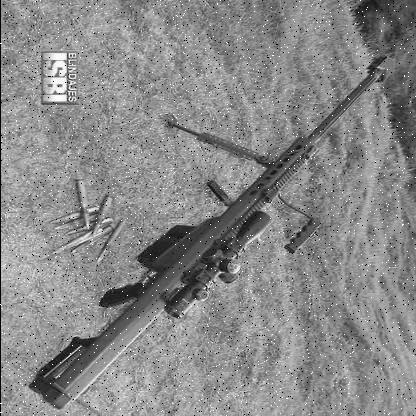rifle: (24, 48, 402, 415)
